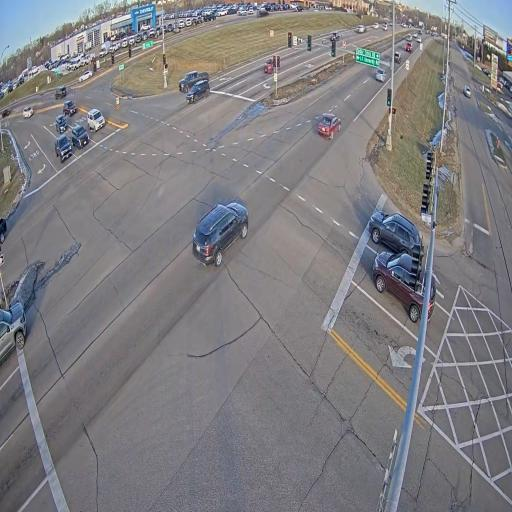pickup: (179, 71, 209, 92), (54, 134, 72, 163), (0, 218, 7, 244), (418, 37, 421, 42)
sedan: (318, 114, 340, 139), (264, 58, 275, 73), (79, 70, 92, 82), (375, 68, 386, 82), (23, 107, 34, 118), (463, 85, 471, 98), (1, 109, 11, 118), (418, 37, 421, 42)
suv: (192, 201, 249, 265), (372, 251, 423, 322), (368, 211, 420, 255), (0, 302, 26, 361), (186, 80, 210, 103), (87, 109, 105, 132), (71, 125, 89, 148), (428, 283, 436, 320), (63, 100, 77, 117), (55, 115, 67, 134), (55, 86, 67, 99), (394, 52, 401, 64), (331, 31, 339, 41), (356, 25, 365, 33), (406, 43, 413, 53), (407, 34, 412, 41), (383, 23, 387, 29)
